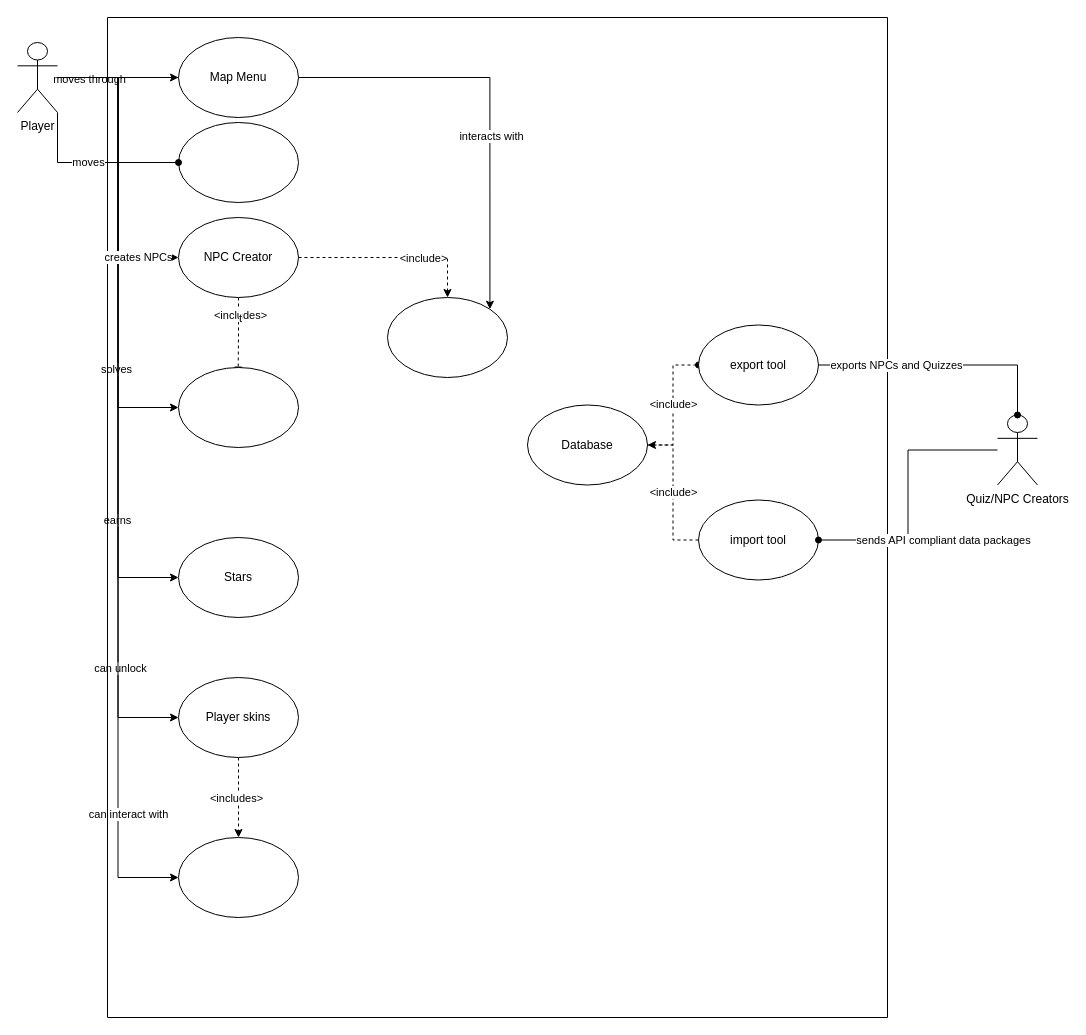
Image size: 1086x1035. Some labels were removed from this diagram. The shapes that lost their labels are listed below. From the top down, each one's centre as x and y in pixels, then its label:
(238,162): Avatar
(447,337): NPCs
(238,407): Quiz
(238,877): Skin Menu
